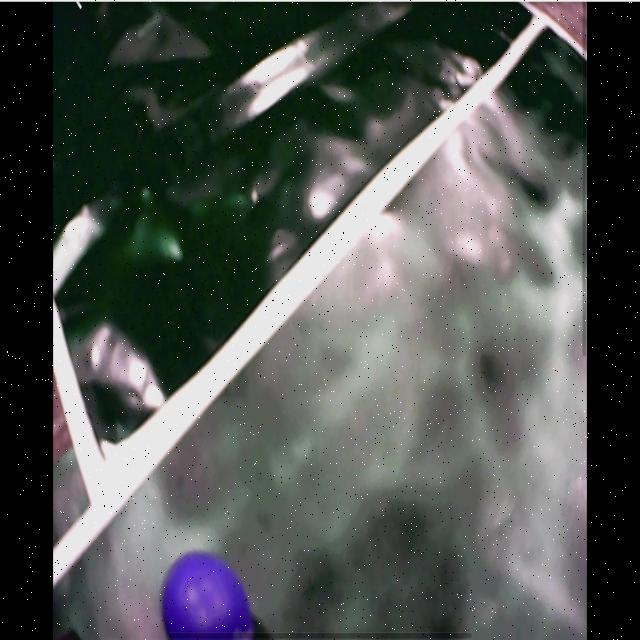ball: (162, 551, 252, 640)
